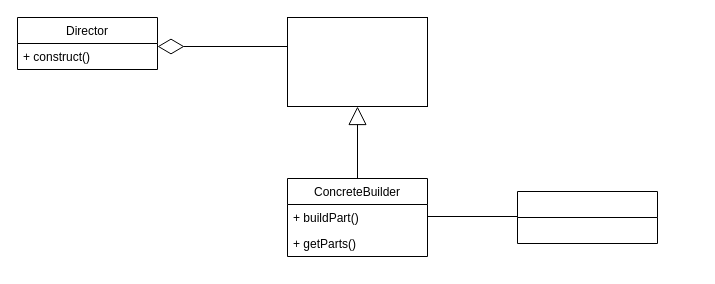
The diagram is 715 pixels wide and 284 high, and some of its shapes have lost their labels. The centre of each missing label's shape, as x and y in pixels:
"<<Interface>> Builder + buildPart()" goes at point (357, 61).
"Product" goes at point (587, 217).
